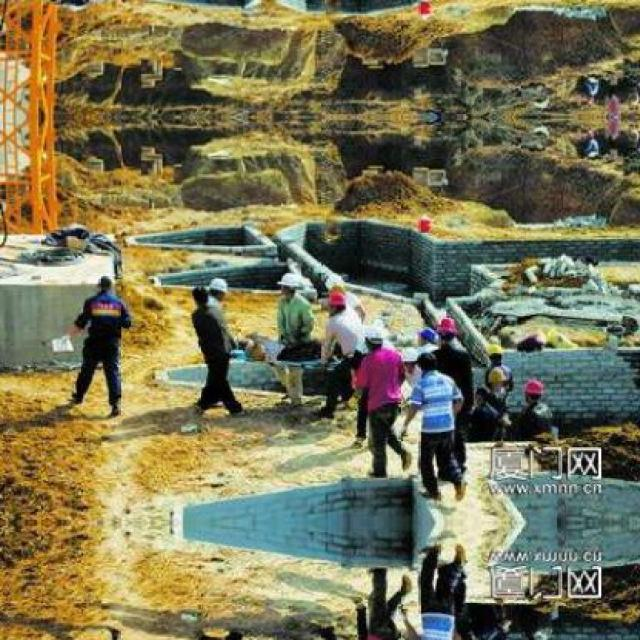helmet: (522, 376, 546, 406), (360, 322, 385, 349), (277, 268, 298, 298), (435, 317, 460, 342), (205, 273, 226, 299), (398, 345, 420, 369), (484, 366, 507, 388), (482, 340, 503, 362), (414, 327, 435, 347), (326, 293, 346, 313)
